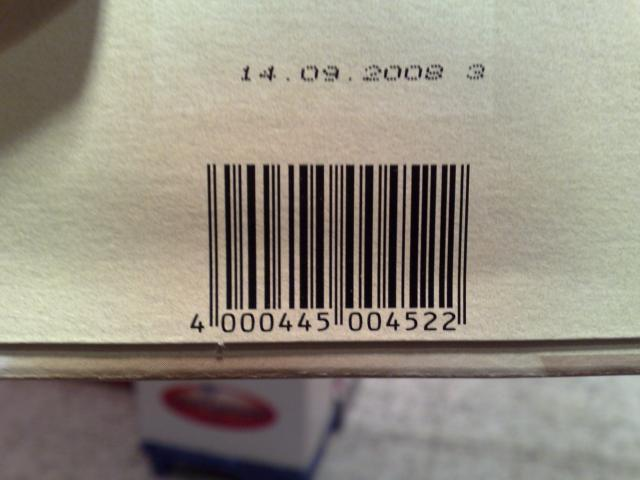Barcode: (178, 147, 496, 340)
